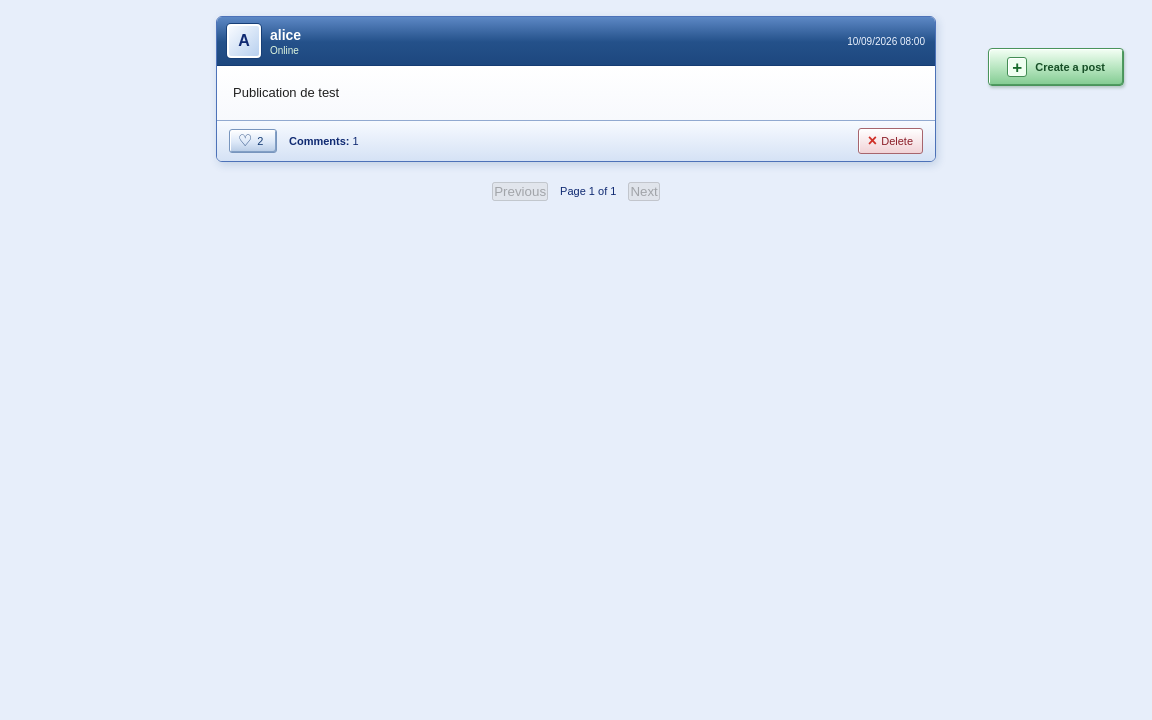
PostFeed › valide le formulaire comme le ferait un utilisateur
Expected: the text "Publication de test" is shown, [233,85,339,100]
Click the button "+ Create a post": (1056, 67) [988,48,1124,86]
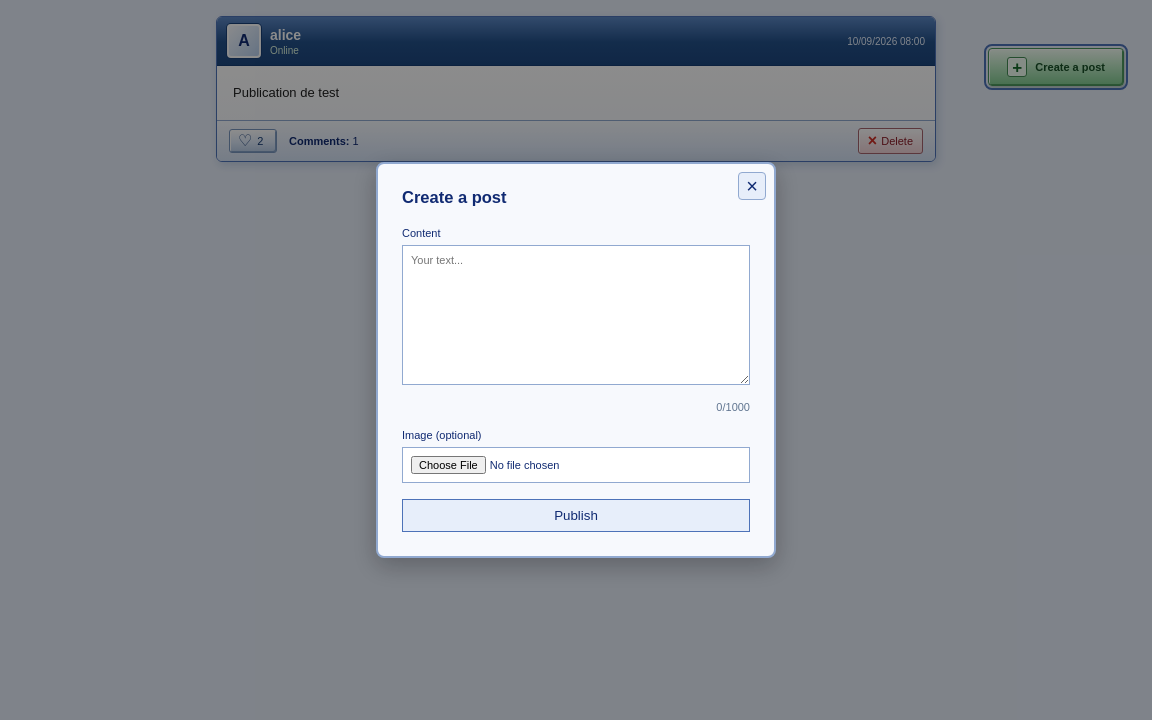
Click the button "Publish": (576, 516) [402,499,750,532]
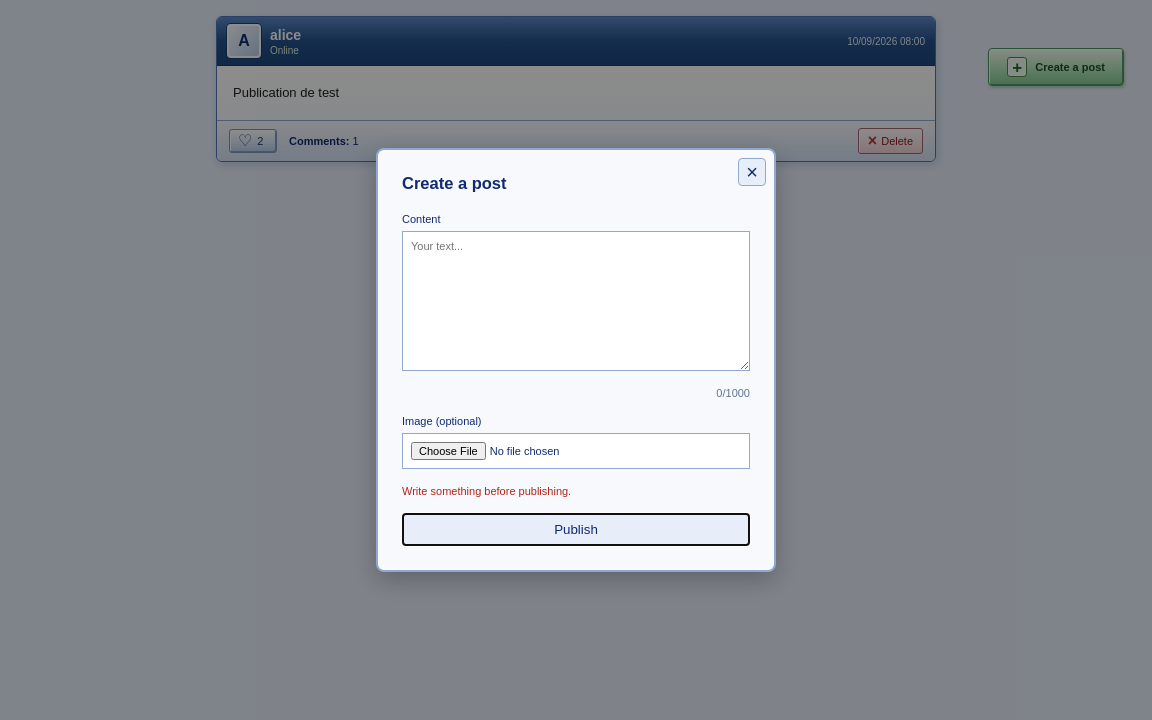
Now the message reads "Write something before publishing.", box [402,485,571,497]
